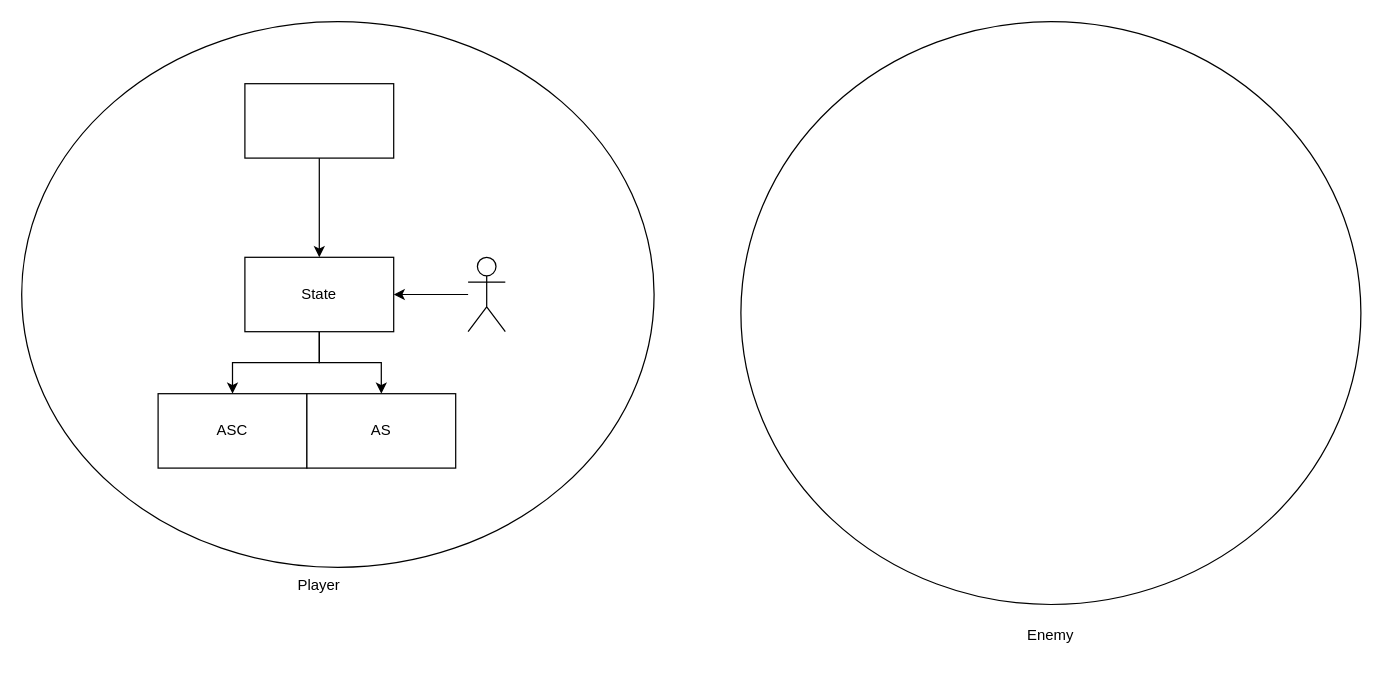
Some shapes in this 1383 by 676 pixel diagram are drawn without their labels. Here are the shapes that lost their labels. From the top down, the box of each, then its label:
(244, 82, 394, 158): PlayerContrller
(467, 256, 505, 332): AvatarActor (has AvatarActorInfo)
